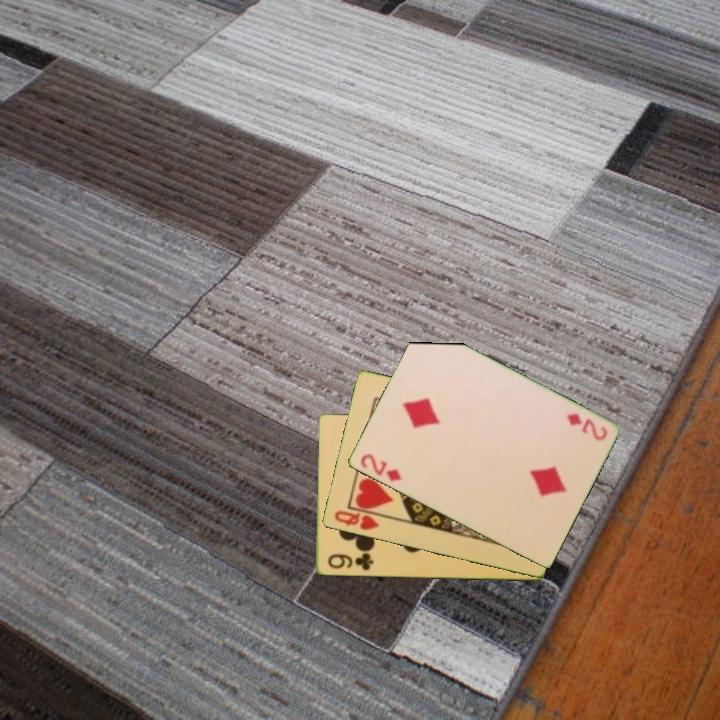2d: (356, 450, 404, 485), (563, 410, 610, 444)
9c: (324, 550, 376, 574)
Qh: (330, 505, 387, 533)
